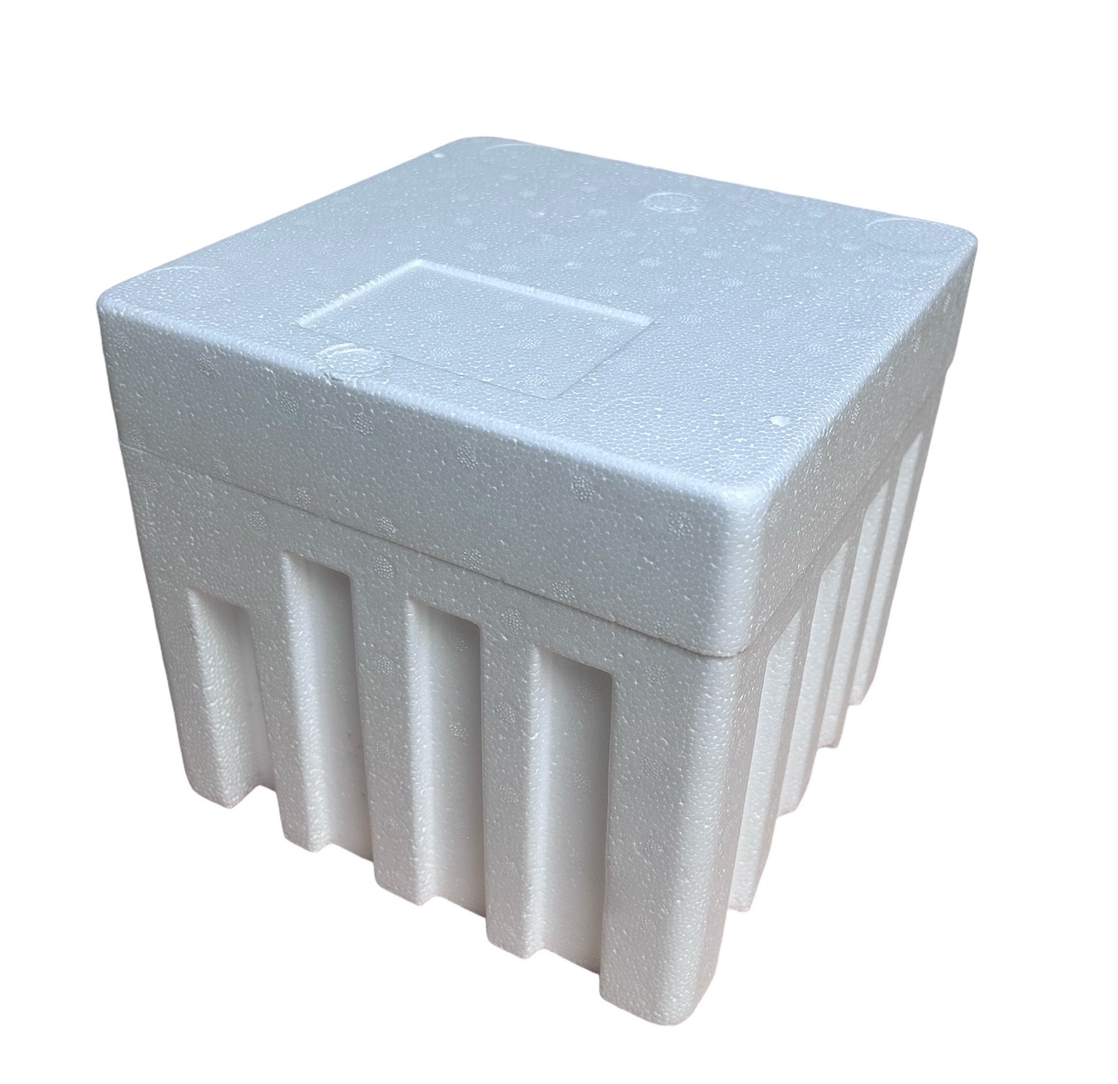泡沫箱: (98, 138, 975, 1024)
